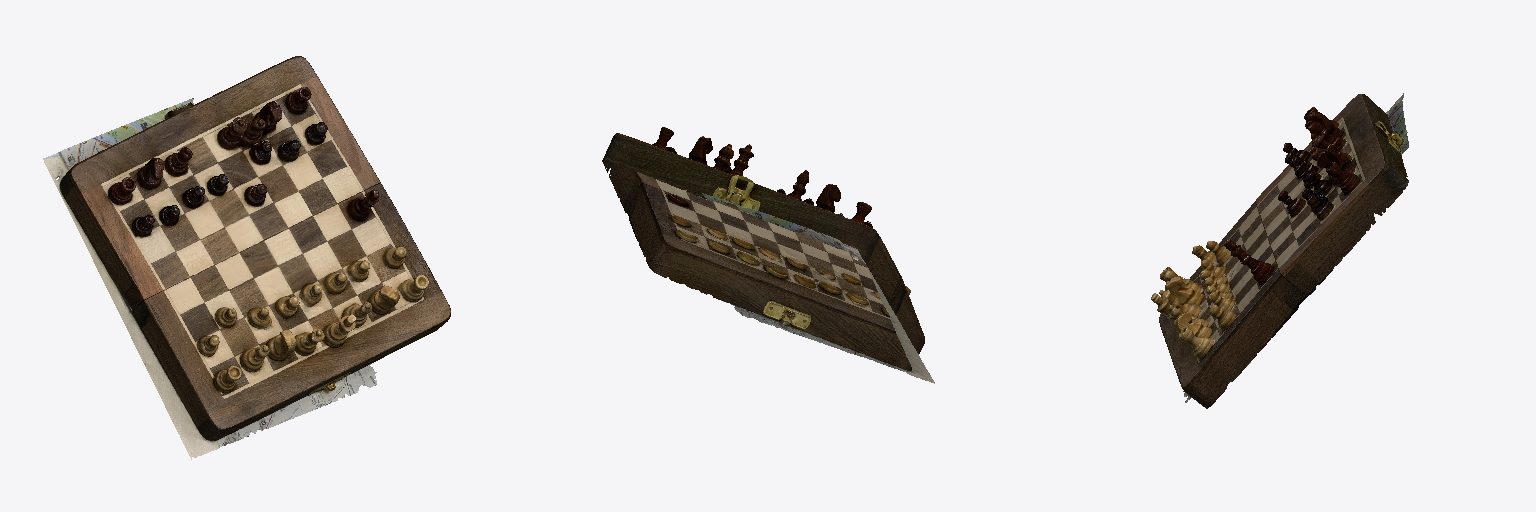
The picture shows the model from 3 angles: view 1: azimuth 30°, elevation 25°; view 2: azimuth 150°, elevation 25°; view 3: azimuth 270°, elevation 25°; orthographic projection.
Size of the model in its own units: 5.43 by 4.72 by 4.02.
Materials: 1 (1 with a texture image).